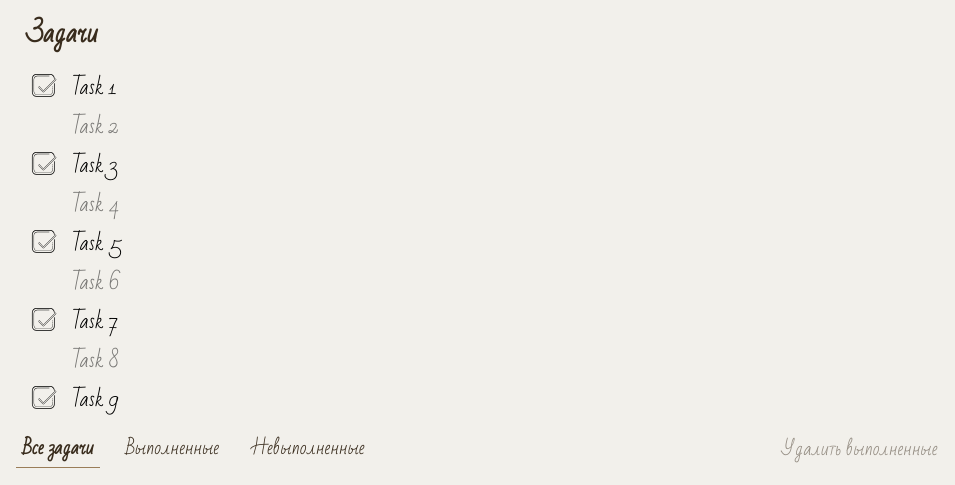
Scenario: TodoList Component › Фильтр выполненные
The width and height of the screenshot is (955, 485).
Click the button "Выполненные" at (172, 448), box [120,429,225,467]
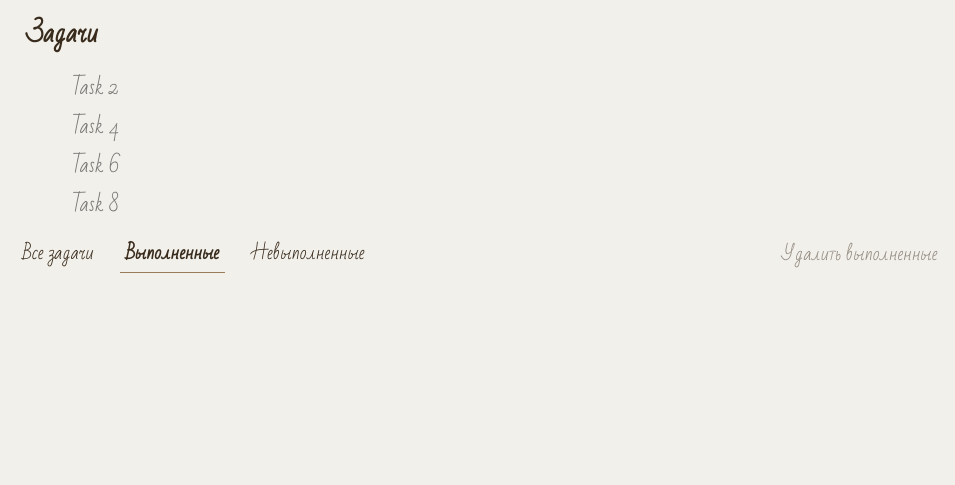
Result: the text "Task 1" is gone
Result: the text "Task 3" is gone
Result: the text "Task 5" is gone
